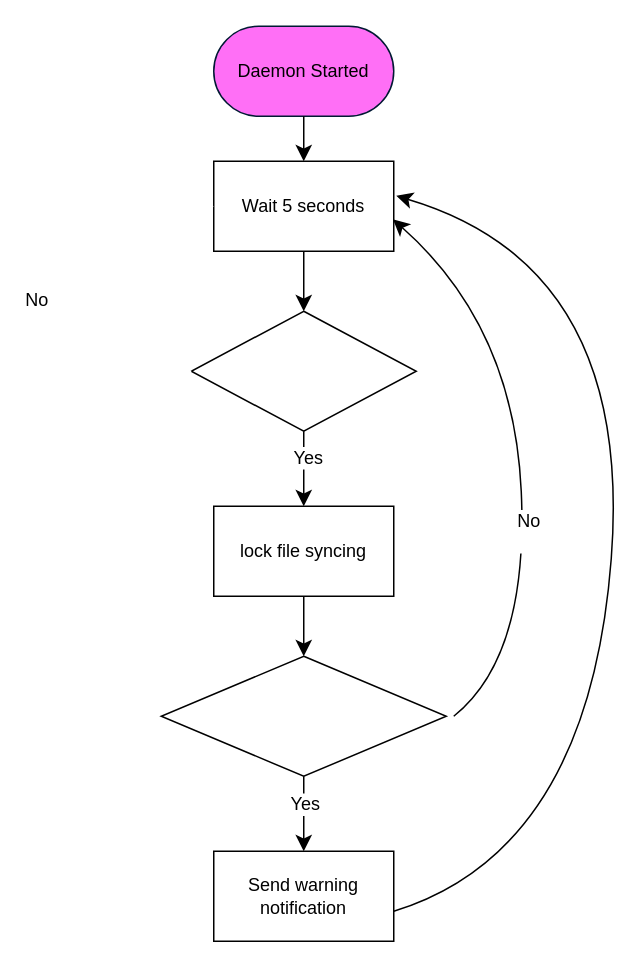
Image size: 641x968. Some labels were removed from this diagram. Here are the shapes that lost their labels. From the top down, the centre of each, then its label:
At [303,370]: "Is program open on either device".
At [303,715]: "Is program open on both devices".
